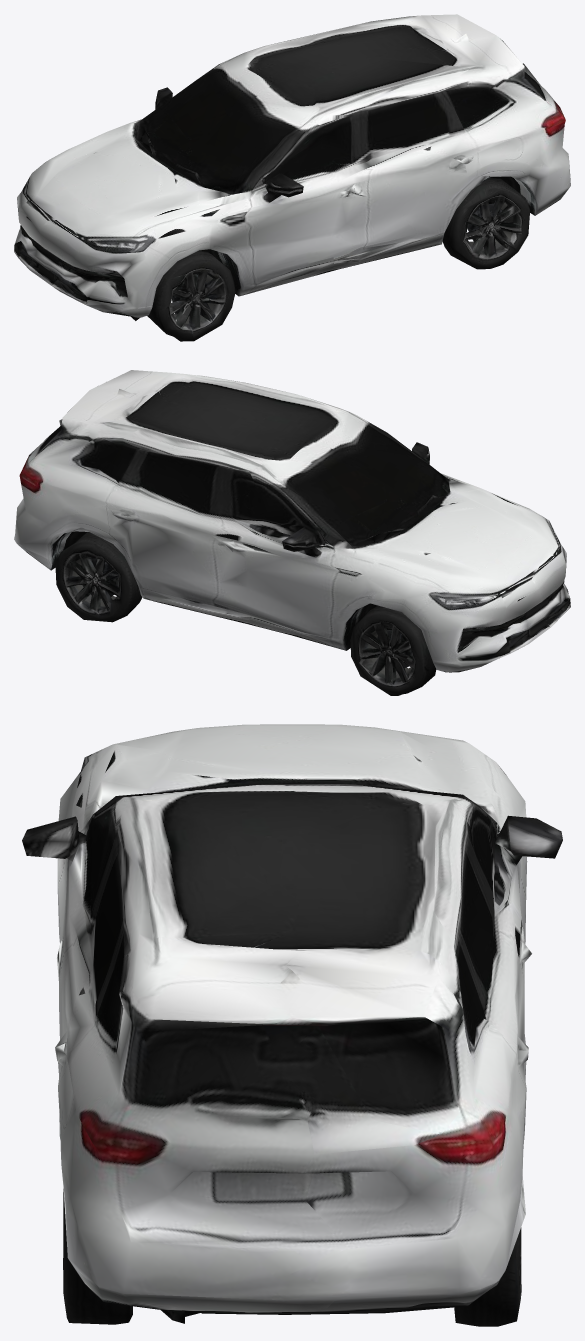
Rendered from suv.glb.
The picture shows the model from 3 angles, top to bottom: view 1: azimuth 30°, elevation 25°; view 2: azimuth 150°, elevation 25°; view 3: azimuth 270°, elevation 25°; orthographic projection. The views are drawn at different scales.
Parts seen in each view (by area): view 1: tripo_node_2f401c2d-c3b6-4a2e-8297-ada8c2c55a56; view 2: tripo_node_2f401c2d-c3b6-4a2e-8297-ada8c2c55a56; view 3: tripo_node_2f401c2d-c3b6-4a2e-8297-ada8c2c55a56.
Boxes of the visible parts, x1,y1,x2,y2 form: tripo_node_2f401c2d-c3b6-4a2e-8297-ada8c2c55a56: (14,14,570,341); tripo_node_2f401c2d-c3b6-4a2e-8297-ada8c2c55a56: (14,370,570,695); tripo_node_2f401c2d-c3b6-4a2e-8297-ada8c2c55a56: (22,724,562,1326).
Bounding box in the file's own units: 1 × 0.3671 × 0.4753.
1 material, 1 textured.
